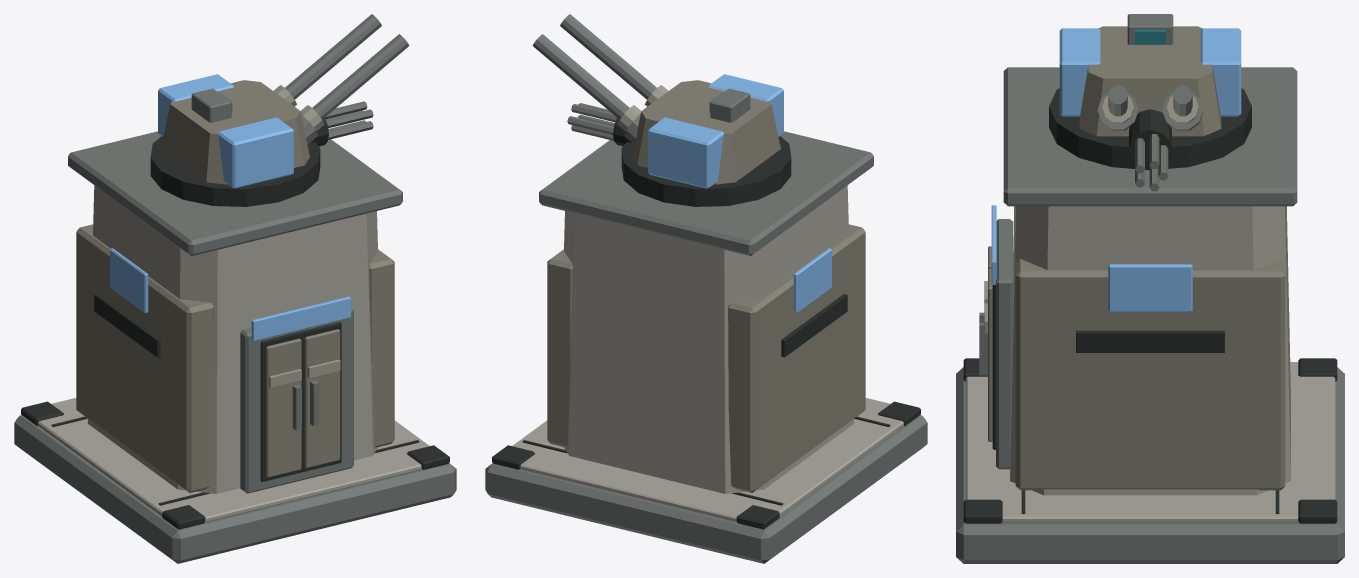
File: flak_tower.glb
3 renders of one model, left to right at view 1: azimuth 30°, elevation 25°; view 2: azimuth 150°, elevation 25°; view 3: azimuth 270°, elevation 25°, orthographic. The views are drawn at different scales.
Visible parts, largest first — view 1: Hull, Turret; view 2: Hull, Turret; view 3: Hull, Turret.
Part boxes in pixels (x1,y1,x2,y2): Hull: (14, 131, 456, 563); Turret: (150, 14, 409, 206); Hull: (485, 131, 927, 563); Turret: (532, 14, 791, 206); Hull: (956, 67, 1344, 563); Turret: (1049, 14, 1251, 191).
Bounding box in the file's own units: 1.9 × 2.49 × 1.8.
